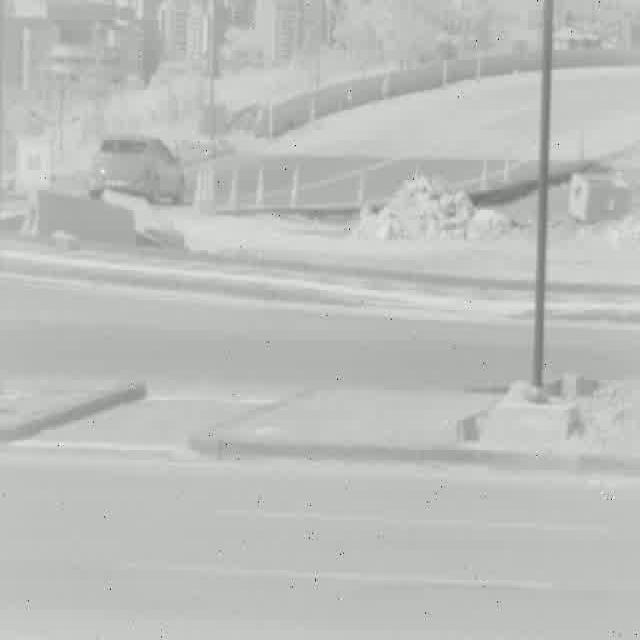Car: (91, 137, 184, 203)
